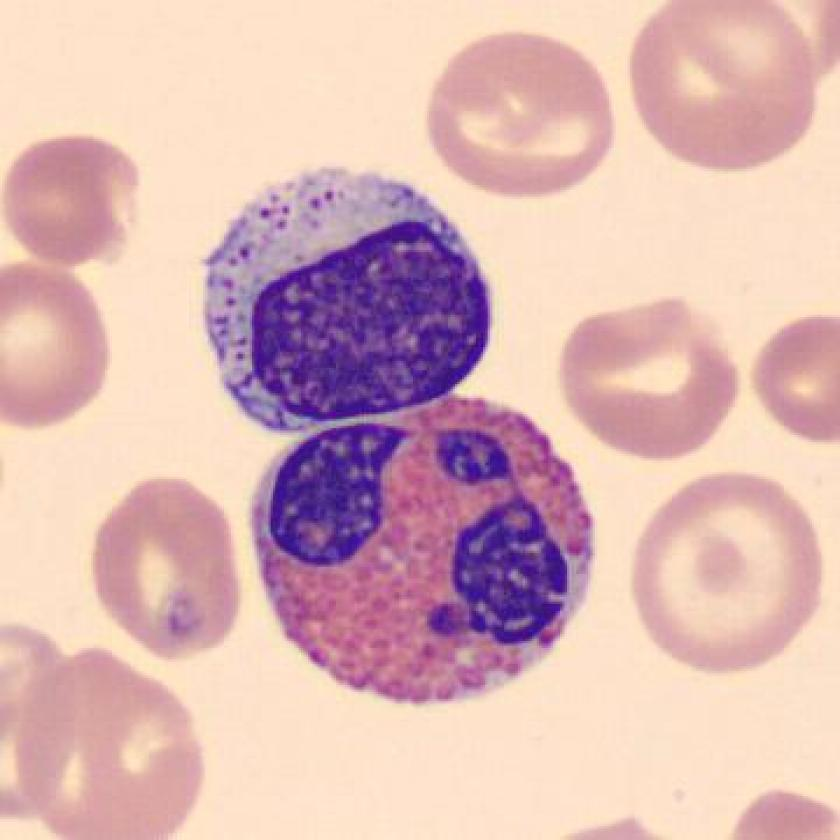eosinophil: (237, 388, 619, 726)
